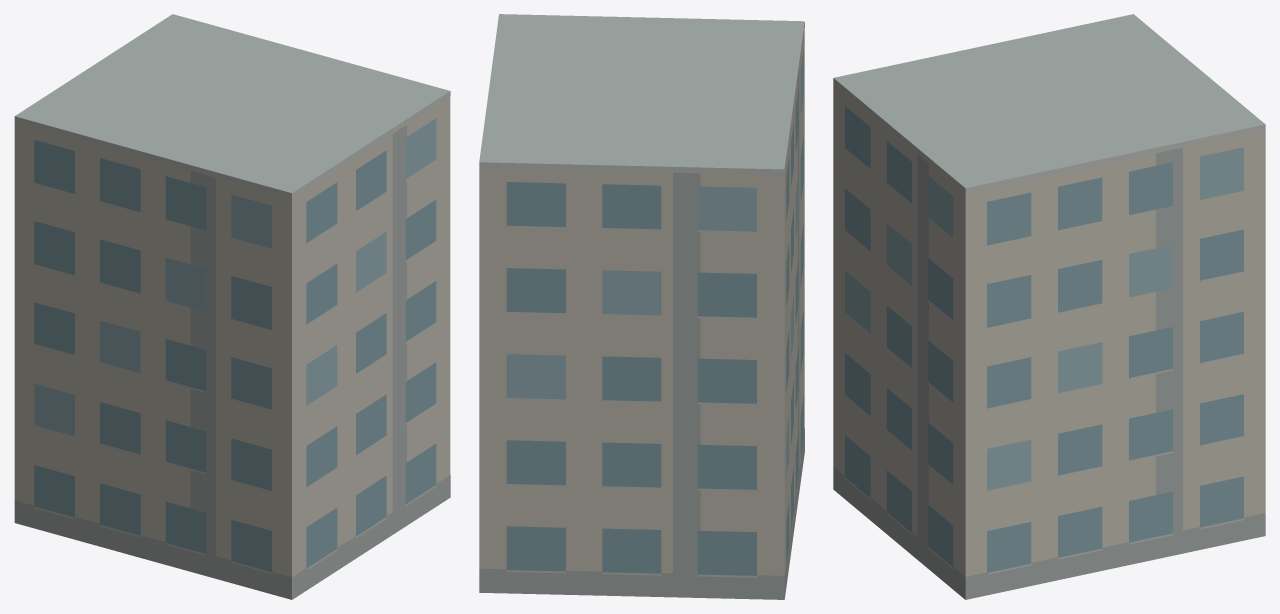
Rendered from survey-upis-32839752.glb.
3 renders of one model, left to right at view 1: azimuth 30°, elevation 25°; view 2: azimuth 150°, elevation 25°; view 3: azimuth 270°, elevation 25°, orthographic. The views are drawn at different scales.
Visible parts, largest first — view 1: survey-upis-32839752.tmp; view 2: survey-upis-32839752.tmp; view 3: survey-upis-32839752.tmp.
Part boxes in pixels (bbox=[...]): survey-upis-32839752.tmp: bbox=[14, 14, 450, 599]; survey-upis-32839752.tmp: bbox=[479, 14, 804, 599]; survey-upis-32839752.tmp: bbox=[833, 14, 1265, 599].
Bounding box in the file's own units: 16.08 × 17.7 × 16.85.
